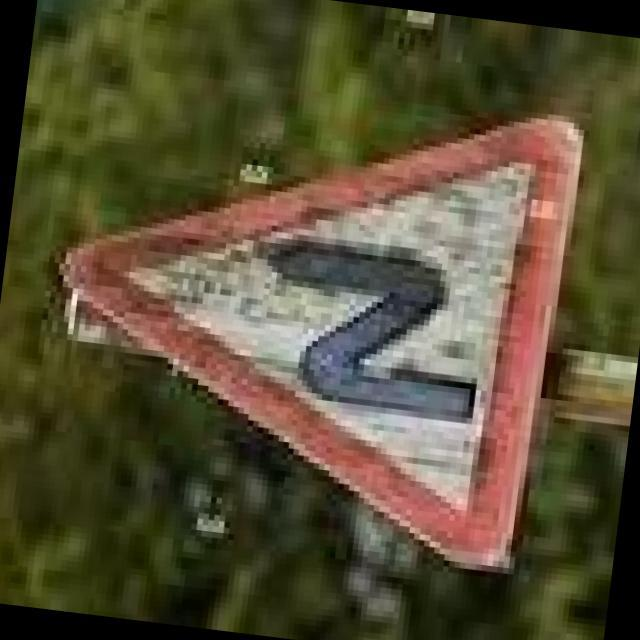obstructed_road_sign: (55, 113, 587, 584)
